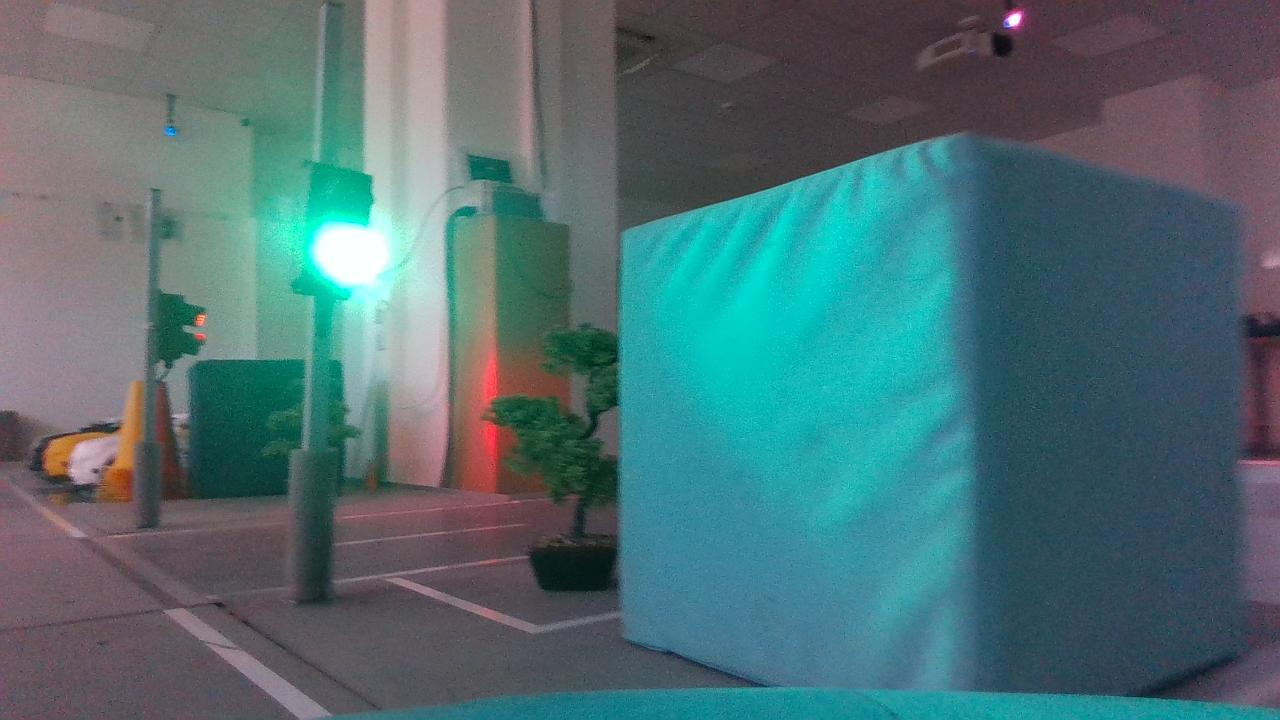traffic_light_green: (259, 136, 407, 317)
